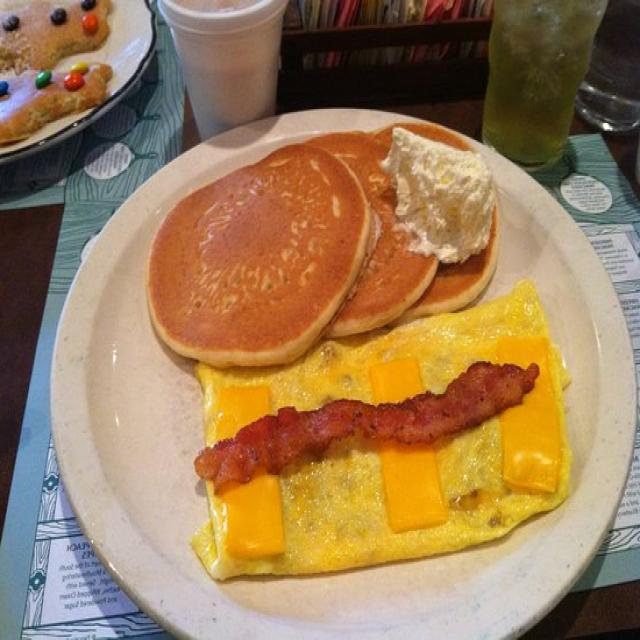Omelette: (190, 276, 577, 592)
Pancakes: (143, 123, 497, 358)
